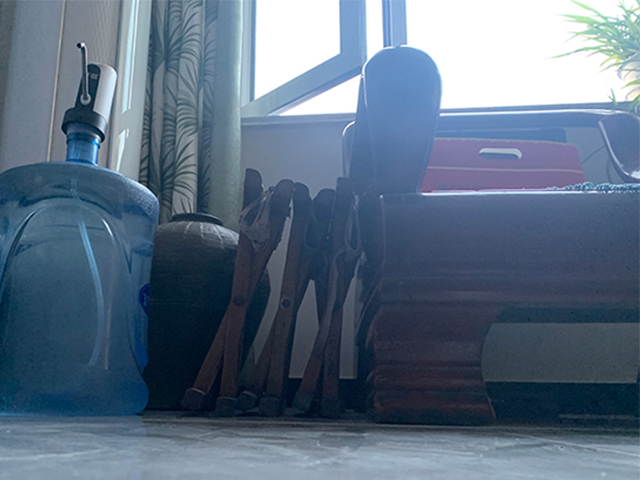sofa: (341, 45, 640, 426)
stool: (181, 167, 359, 419)
